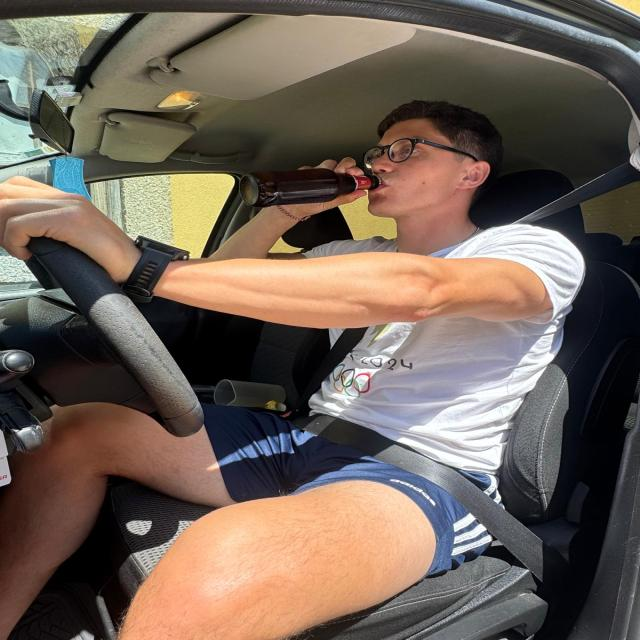Drinking: (222, 143, 403, 220)
Seatbelt: (186, 155, 640, 574)
